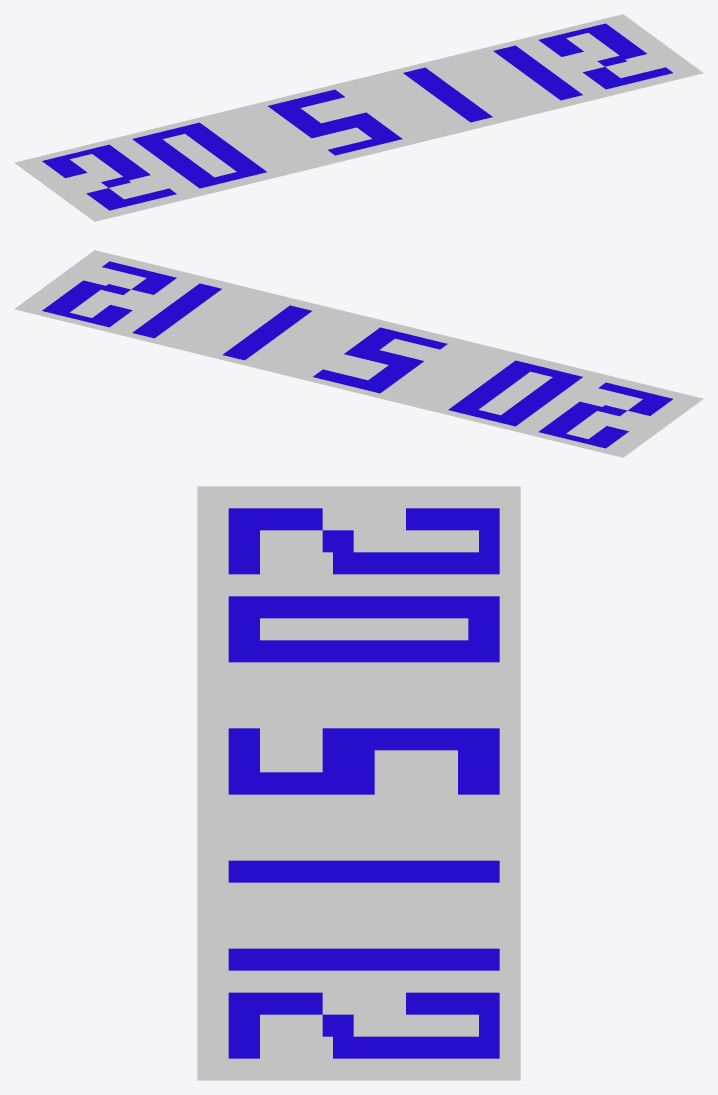
The model's file is bigTile.fbx.
The picture shows the model from 3 angles, top to bottom: view 1: azimuth 30°, elevation 25°; view 2: azimuth 150°, elevation 25°; view 3: azimuth 270°, elevation 25°; orthographic projection. The views are drawn at different scales.
Visible parts, largest first — view 1: Plane; view 2: Plane; view 3: Plane.
Boxes of the visible parts, x1=… form: Plane: x1=14, y1=14, x2=703, y2=221; Plane: x1=14, y1=250, x2=703, y2=457; Plane: x1=197, y1=486, x2=520, y2=1080.
Bounding box in the file's own units: 1742 × 6.52e-05 × 400.
